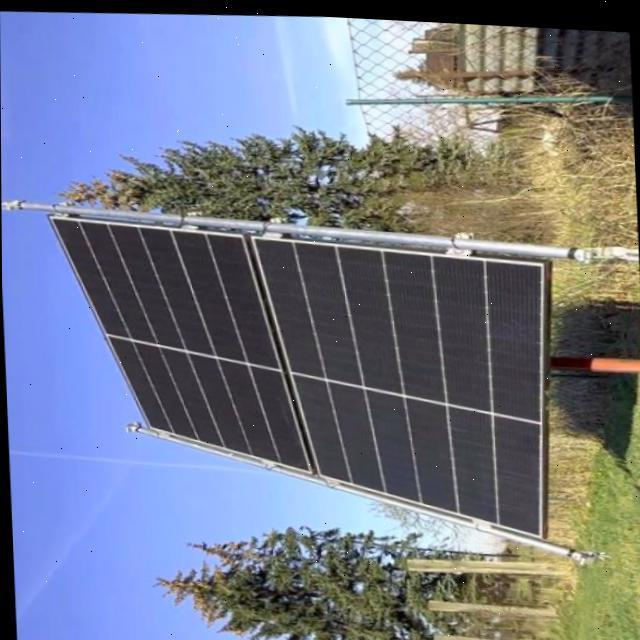Normal Solar Panel: (46, 198, 555, 550)
